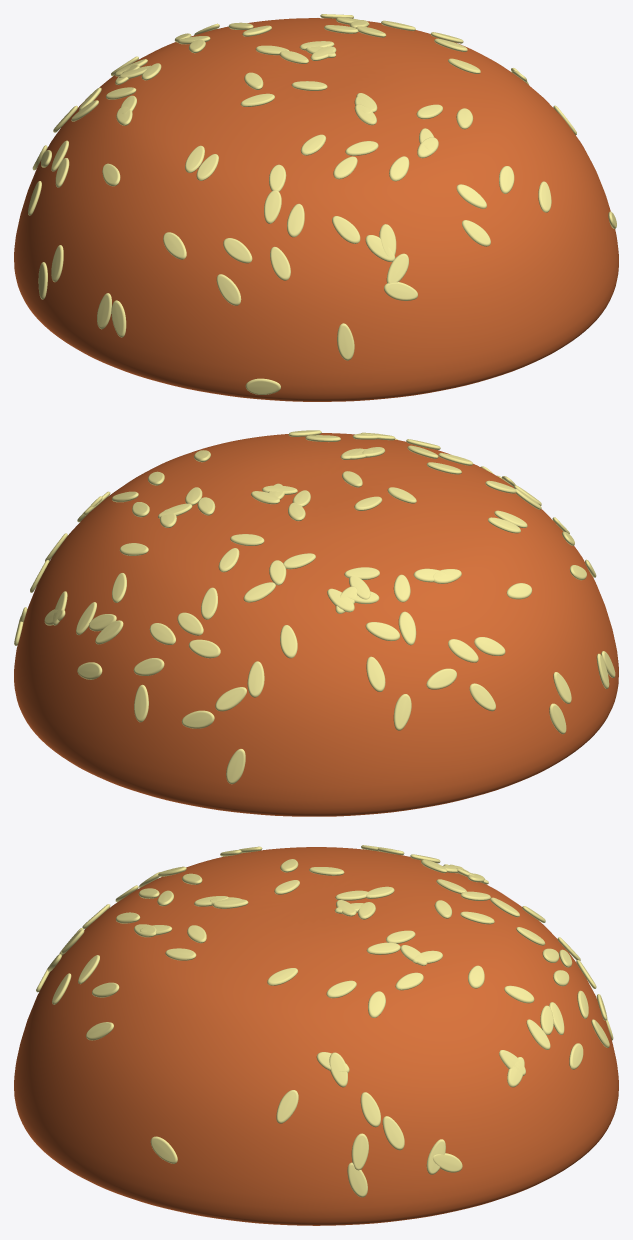
File: pain_2.fbx
3 views of the same model, one above another, from view 1: azimuth 30°, elevation 25°; view 2: azimuth 150°, elevation 25°; view 3: azimuth 270°, elevation 25° (orthographic).
Parts seen in each view (by area): view 1: bred up.001; view 2: bred up.001; view 3: bred up.001.
Part boxes in pixels (x1,y1,x2,y2): bred up.001: [14, 14, 618, 401]; bred up.001: [14, 430, 618, 816]; bred up.001: [14, 845, 618, 1225].
Bounding box in the file's own units: 239 × 91.43 × 242.
